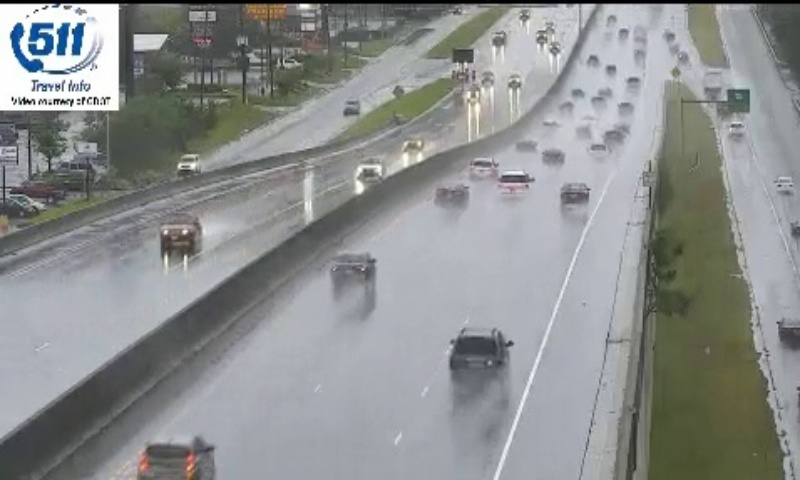car: (448, 327, 510, 380), (140, 436, 214, 480), (331, 251, 376, 283), (562, 182, 589, 205)
